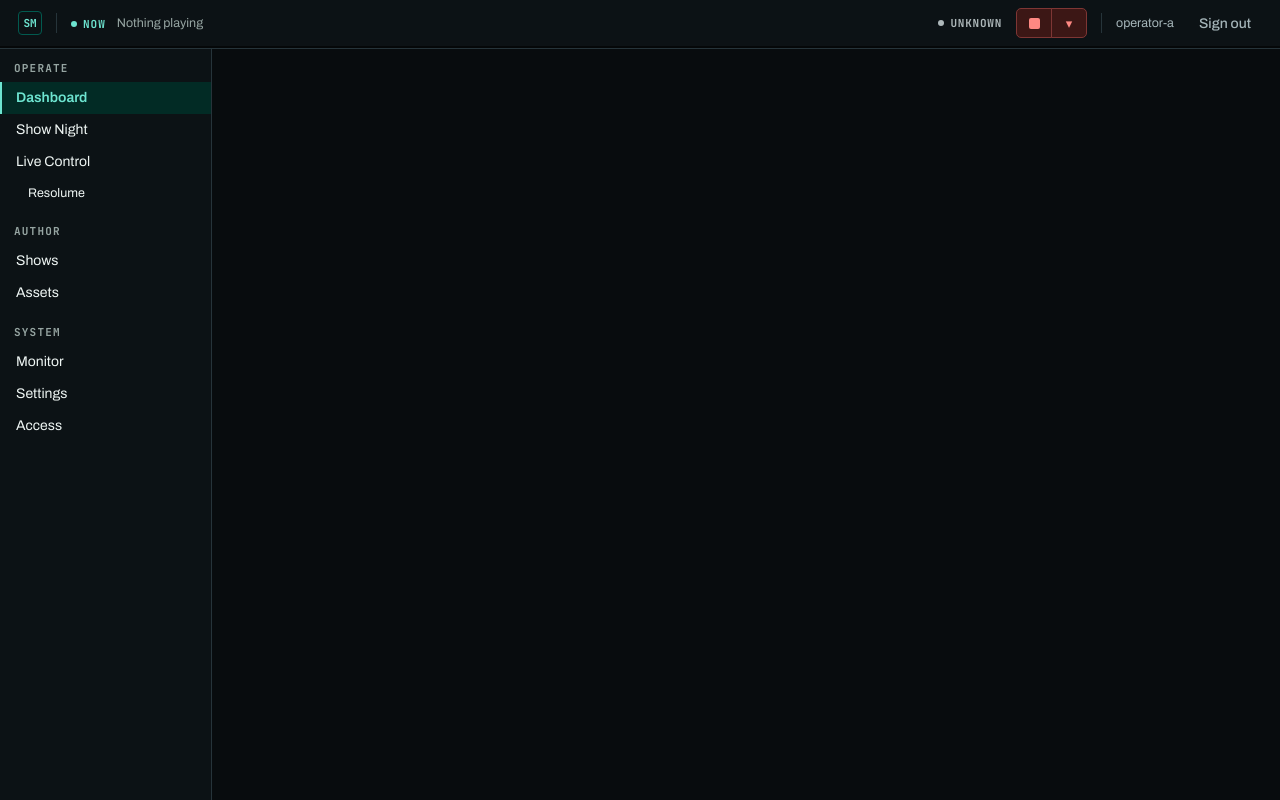
it: app shell › the emergency stop on the bar › asks before the level 1 stop, posts once on confirm, and shows what the coordinator reported
This screenshot has width=1280, height=800.
Step 1. Click the button named "Emergency stop" → (1034, 23), box top-left (1016, 8), bottom-right (1052, 38)
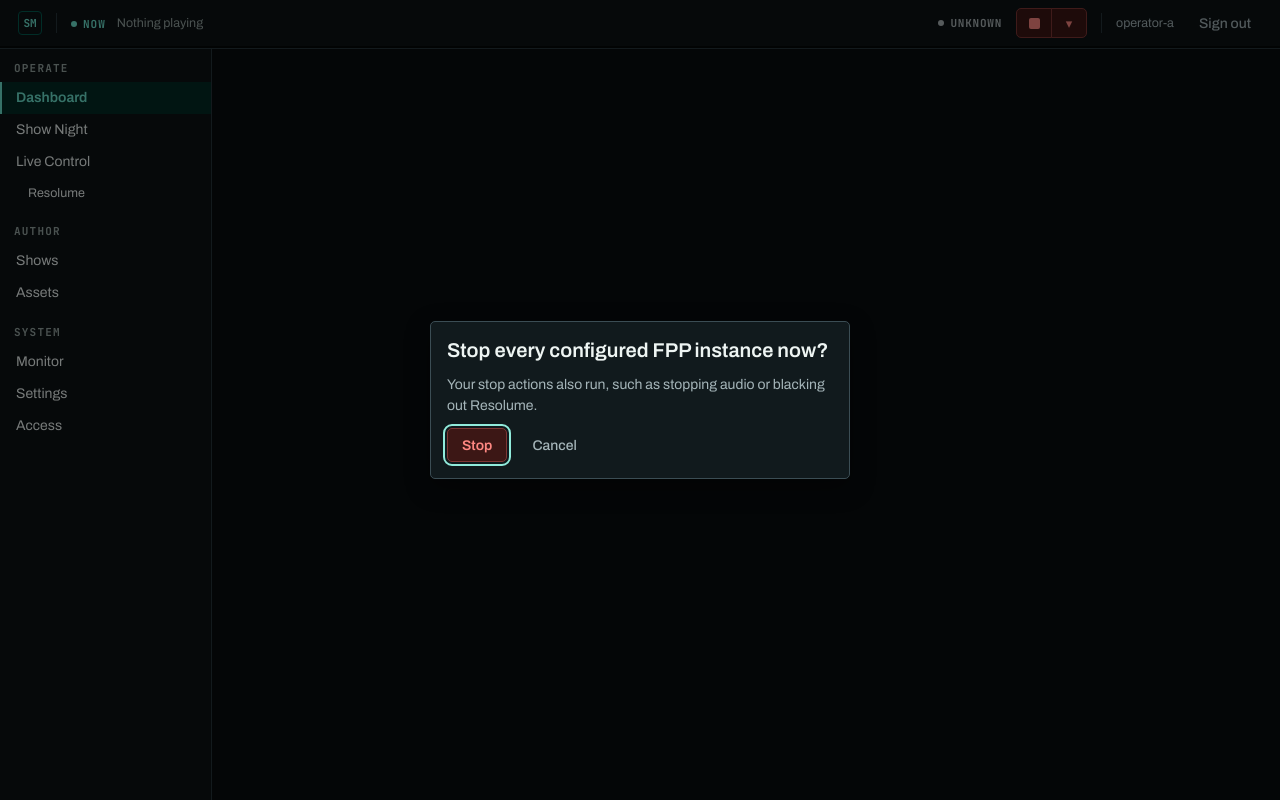
Step 2. Click the button "Stop" → (477, 445), box top-left (447, 428), bottom-right (507, 462)
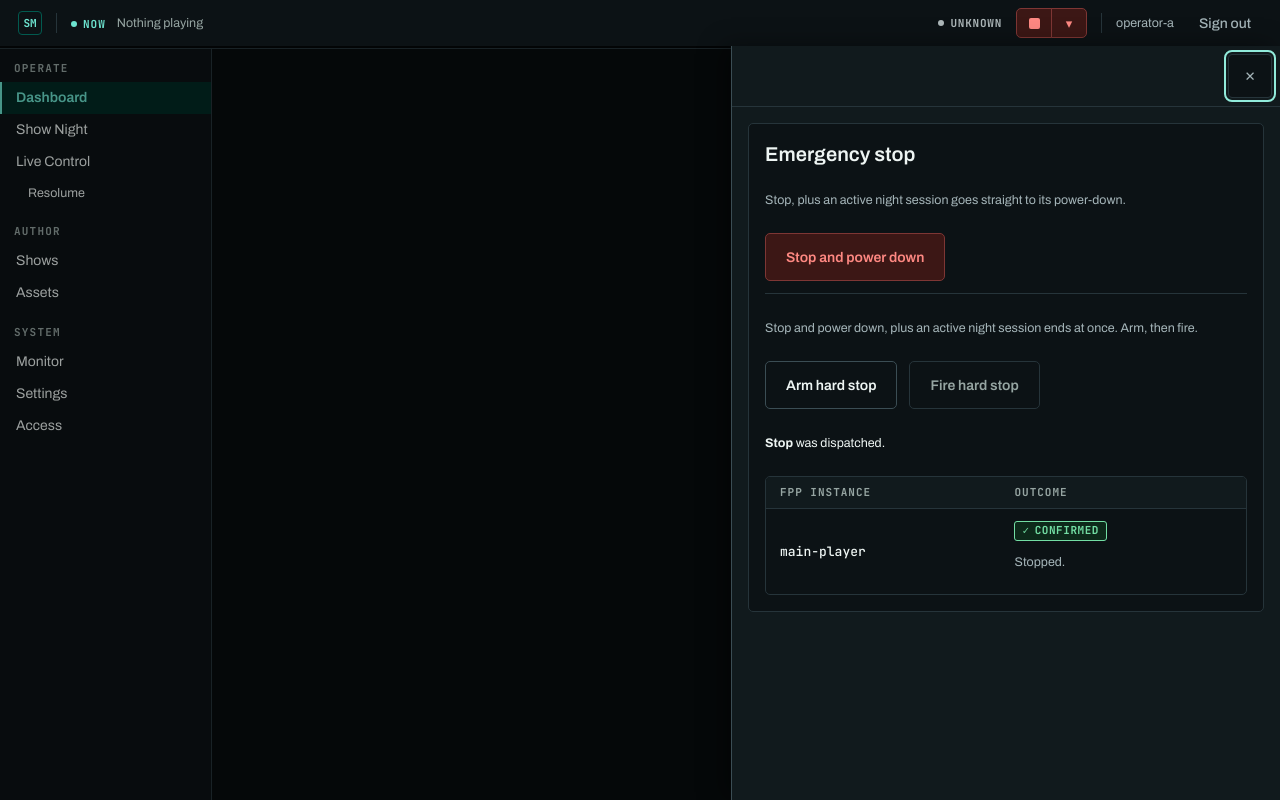
Expected: the text "main-player" is shown, top-left (780, 543), bottom-right (866, 560)
Expected: the text "confirmed" is shown, top-left (1035, 523), bottom-right (1099, 537)
